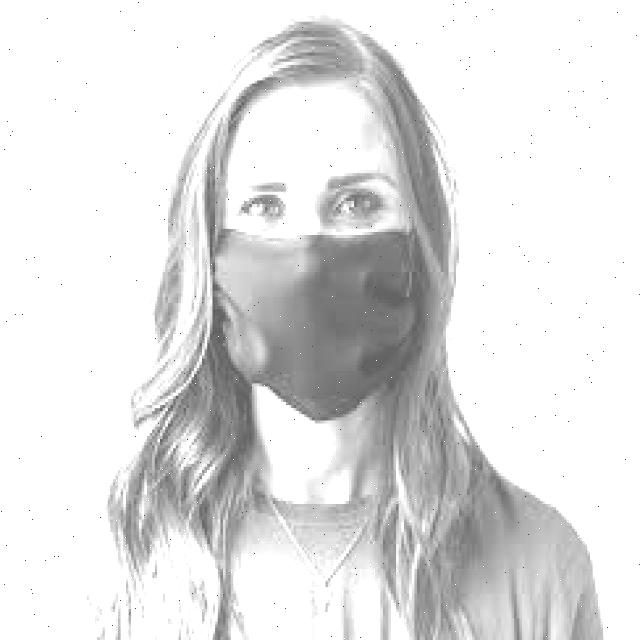fake: (208, 225, 416, 420)
real: (206, 85, 425, 425)
